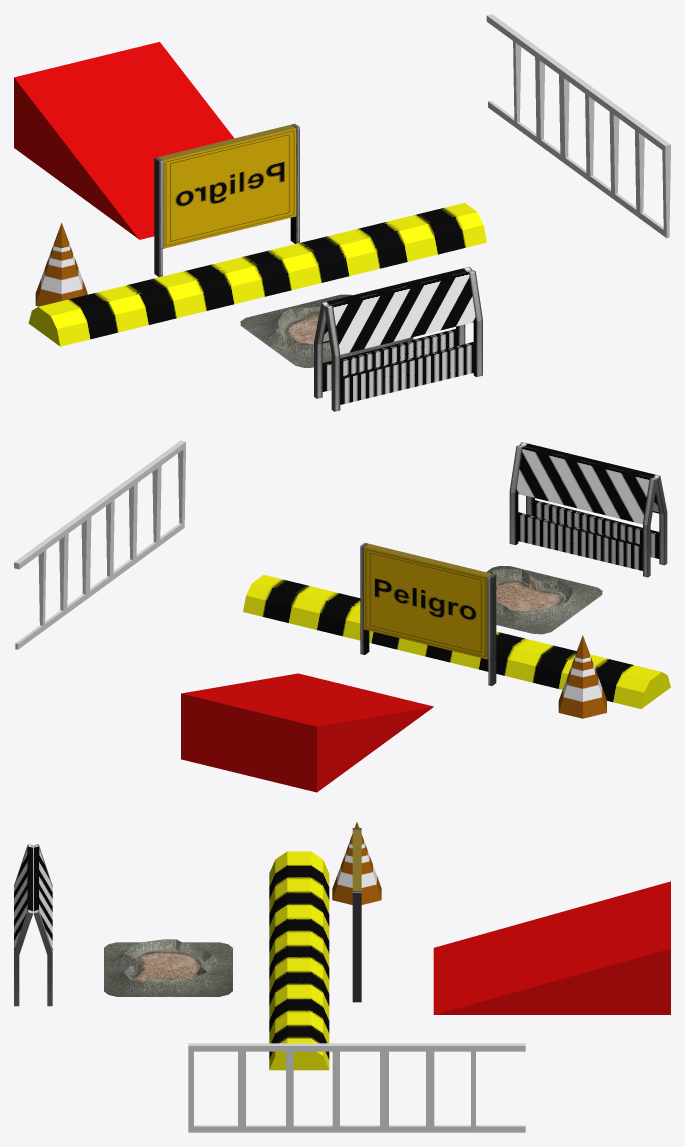
Rendered from obstacles.fbx.
The picture shows the model from 3 angles, top to bottom: view 1: azimuth 30°, elevation 25°; view 2: azimuth 150°, elevation 25°; view 3: azimuth 270°, elevation 25°; orthographic projection. The views are drawn at different scales.
Parts seen in each view (by area): view 1: rampa, poli_A, valla2, valla, rail1, hueco, cono; view 2: rampa, valla2, valla, poli_A, rail1, hueco, cono; view 3: rampa, poli_A, rail1, hueco, valla2, cono, valla.
Part boxes in pixels (x1,y1,x2,y2): rampa: (14, 42, 234, 239); poli_A: (28, 202, 486, 346); valla2: (314, 266, 482, 411); valla: (154, 123, 299, 277); rail1: (486, 14, 670, 238); hueco: (240, 294, 413, 367); cono: (35, 223, 87, 306); rampa: (181, 673, 433, 792); valla2: (509, 442, 667, 577); valla: (360, 543, 496, 685); poli_A: (243, 575, 670, 708); rail1: (14, 440, 185, 649); hueco: (486, 566, 602, 634); cono: (558, 635, 606, 718); rampa: (433, 881, 670, 1014); poli_A: (269, 851, 329, 1070); rail1: (188, 1043, 525, 1132); hueco: (104, 939, 232, 996); valla2: (14, 844, 52, 1006); cono: (332, 822, 381, 904); valla: (352, 828, 361, 1002).
Bounding box in the file's own units: 12.99 × 2.59 × 13.78.
